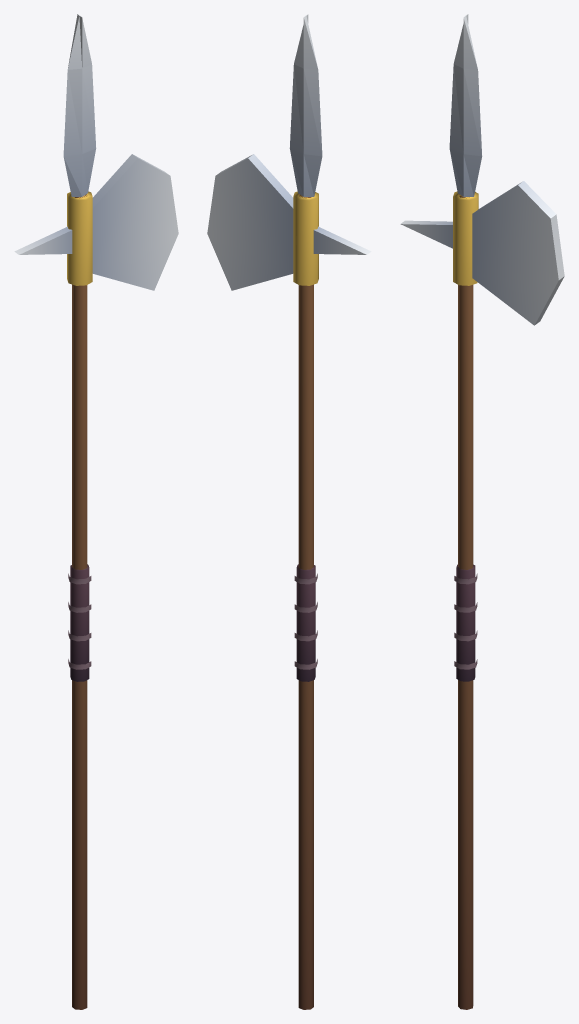
Rendered from halberd.glb.
3 renders of one model, left to right at view 1: azimuth 30°, elevation 25°; view 2: azimuth 150°, elevation 25°; view 3: azimuth 330°, elevation 25°, orthographic.
Parts seen in each view (by area): view 1: halberd; view 2: halberd; view 3: halberd.
Part boxes in pixels (x1=…): halberd: x1=14, y1=14, x2=178, y2=1009; halberd: x1=207, y1=14, x2=371, y2=1009; halberd: x1=400, y1=14, x2=564, y2=1009.
Size of the model in its own units: 0.39 by 2.32 by 0.056.
